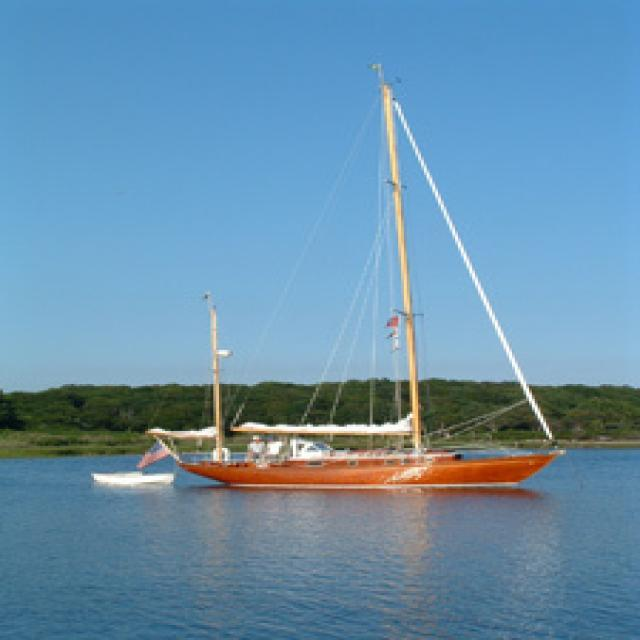Ship: (127, 65, 578, 496)
